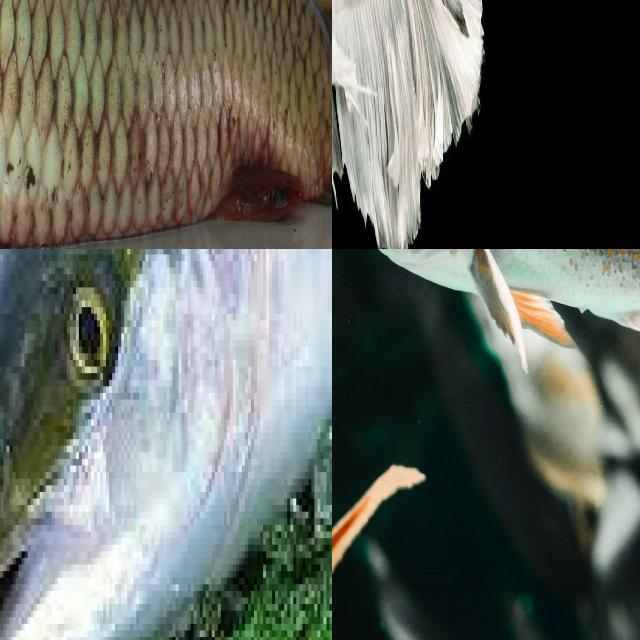fish: (0, 249, 332, 640), (0, 0, 332, 249), (332, 0, 640, 249), (383, 249, 640, 507)
